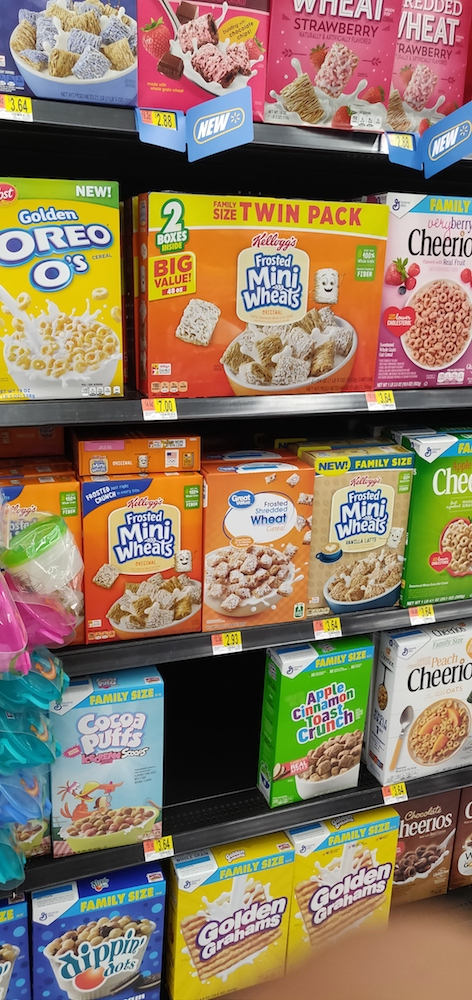Oreo Golden-568301011: (1, 178, 117, 402)
